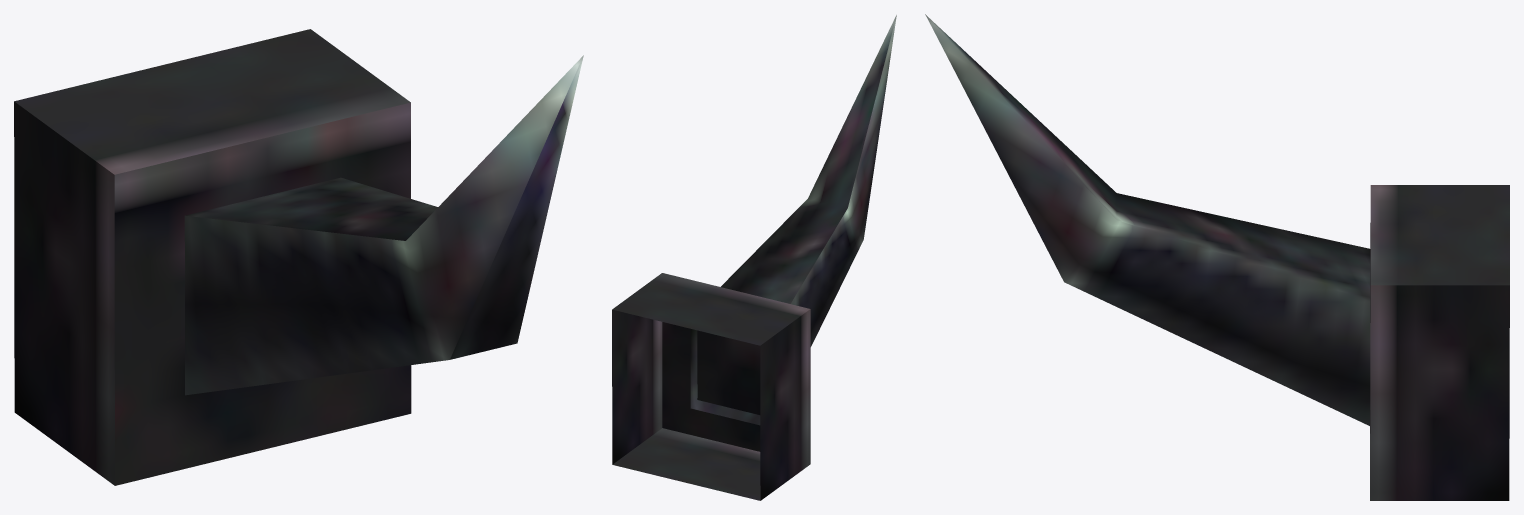
The model's file is tlfb2_dingzi01.FBX.
3 renders of one model, left to right at view 1: azimuth 30°, elevation 25°; view 2: azimuth 150°, elevation 25°; view 3: azimuth 270°, elevation 25°, orthographic. The views are drawn at different scales.
Visible parts, largest first — view 1: tlfb2_dingzi01; view 2: tlfb2_dingzi01; view 3: tlfb2_dingzi01.
Boxes of the visible parts, <box> form: tlfb2_dingzi01: <box>14,29,583,485</box>; tlfb2_dingzi01: <box>612,15,896,500</box>; tlfb2_dingzi01: <box>925,14,1509,500</box>.
Bounding box in the file's own units: 52.9 × 107 × 130.
